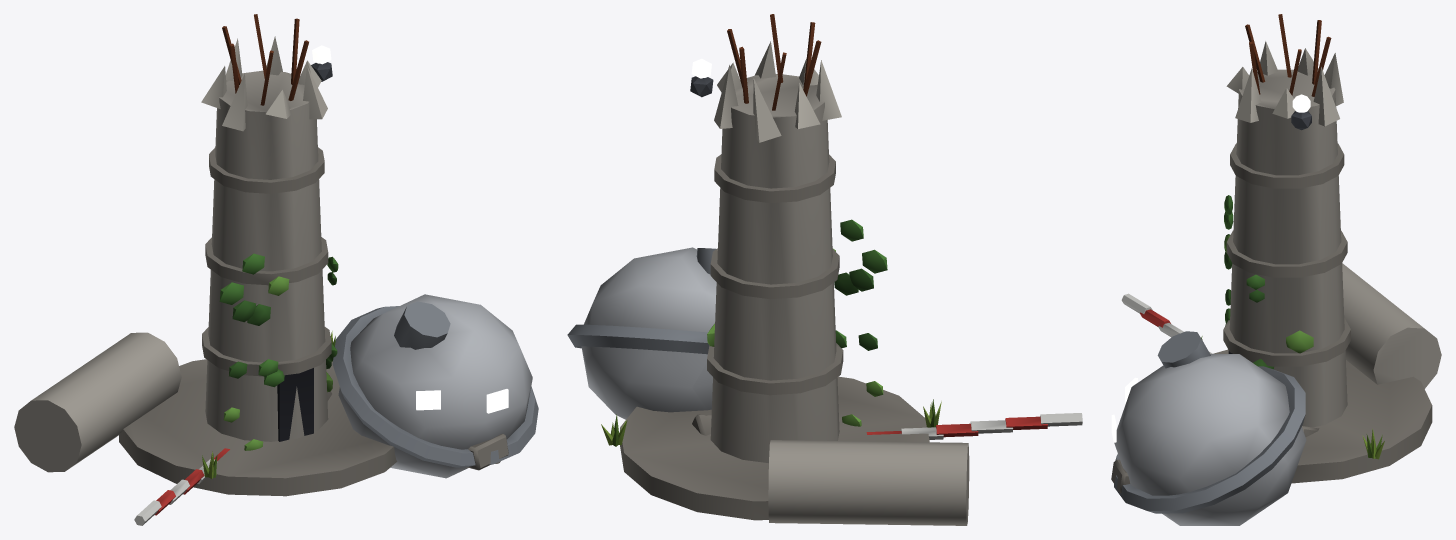
Rendered from lm_stadt.glb.
3 views of the same model, side by side, from view 1: azimuth 30°, elevation 25°; view 2: azimuth 150°, elevation 25°; view 3: azimuth 270°, elevation 25° (orthographic). The views are drawn at different scales.
Visible parts, largest first — view 1: body, win_glow; view 2: body; view 3: body.
Part boxes in pixels (<box>): body: <box>14,14,538,525</box>; win_glow: <box>416,389,508,413</box>; body: <box>567,14,1082,525</box>; body: <box>1111,14,1441,525</box>.
Bounding box in the file's own units: 10.24 × 9.75 × 6.84.
